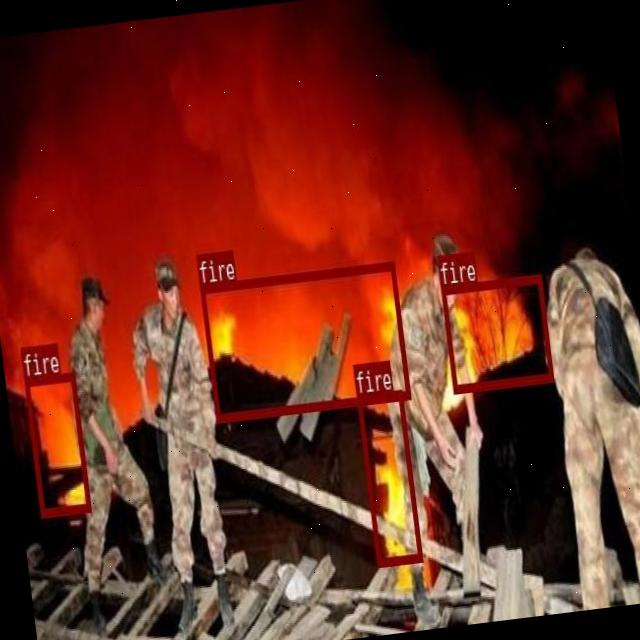fire: (199, 260, 410, 420), (440, 272, 552, 392), (356, 388, 422, 564), (22, 372, 90, 516)
